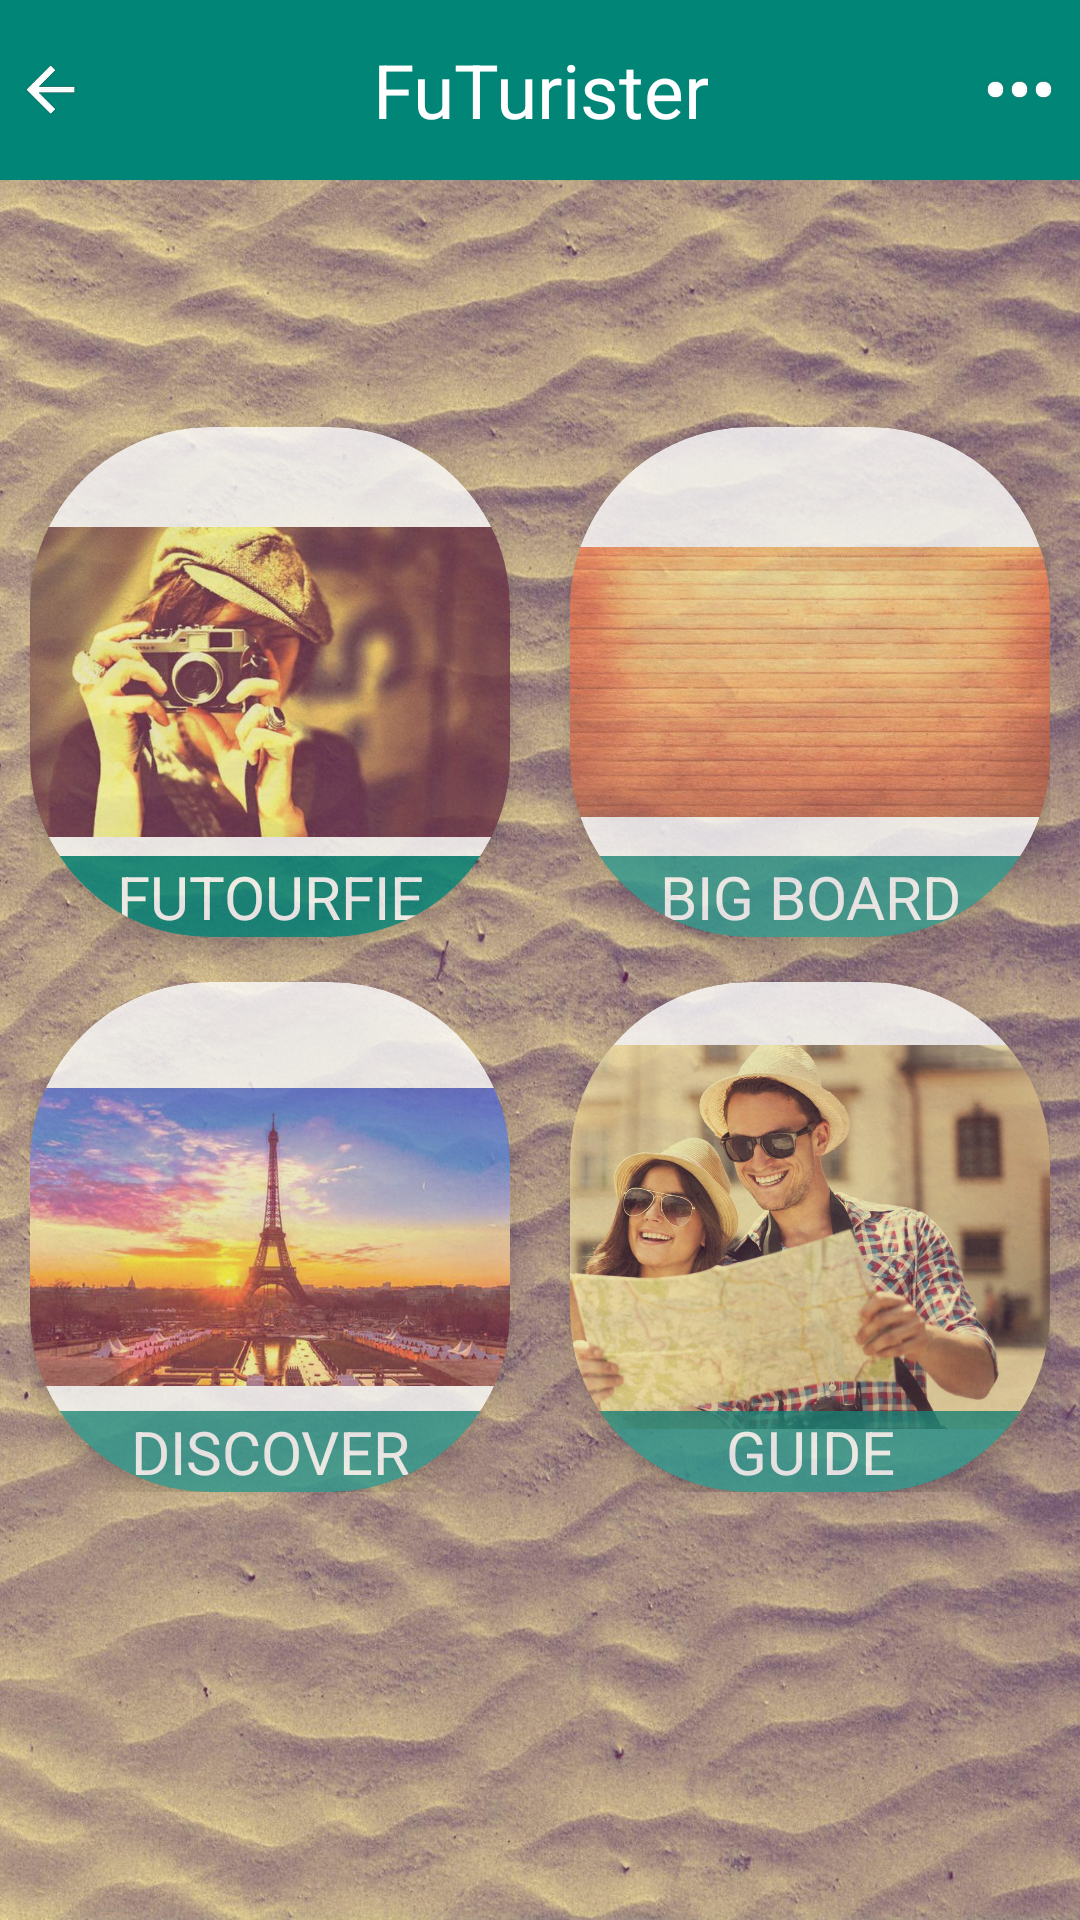

Locate icon controls on the screen. Image size 1080x1920, boxes as (x1, y1, x2, y2).
back: (26, 65, 75, 114)
more: (987, 81, 1052, 98)
